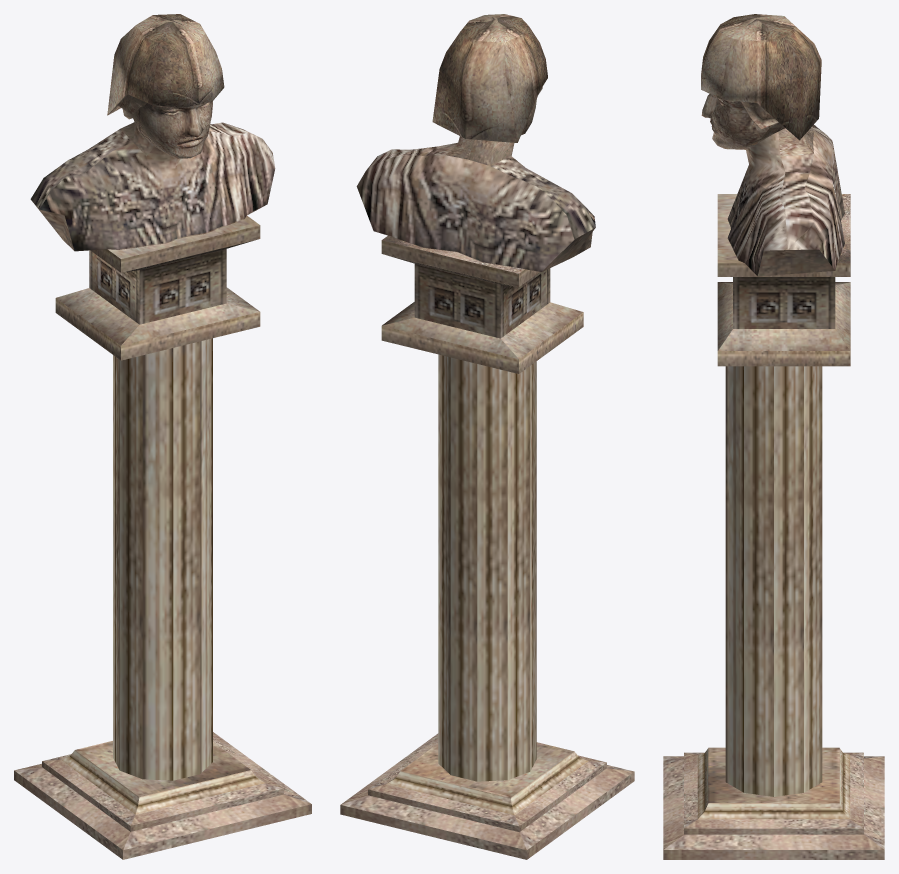
The model's file is bust_sculpture_03.fbx.
The picture shows the model from 3 angles, left to right: view 1: azimuth 30°, elevation 25°; view 2: azimuth 150°, elevation 25°; view 3: azimuth 270°, elevation 25°; orthographic projection. The views are drawn at different scales.
Parts seen in each view (by area): view 1: mesh_0; view 2: mesh_0; view 3: mesh_0.
Boxes of the visible parts, left/top/right/bottom form: mesh_0: left=14, top=14, right=311, bottom=859; mesh_0: left=340, top=14, right=634, bottom=859; mesh_0: left=663, top=14, right=884, bottom=859.
Size of the model in its own units: 53.6 by 172 by 43.38.
1 material, 1 textured.
